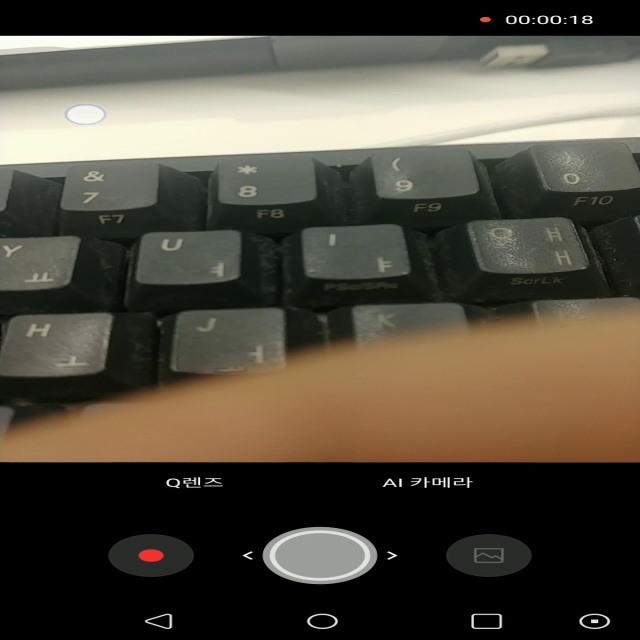Cursor: (64, 104, 109, 126)
